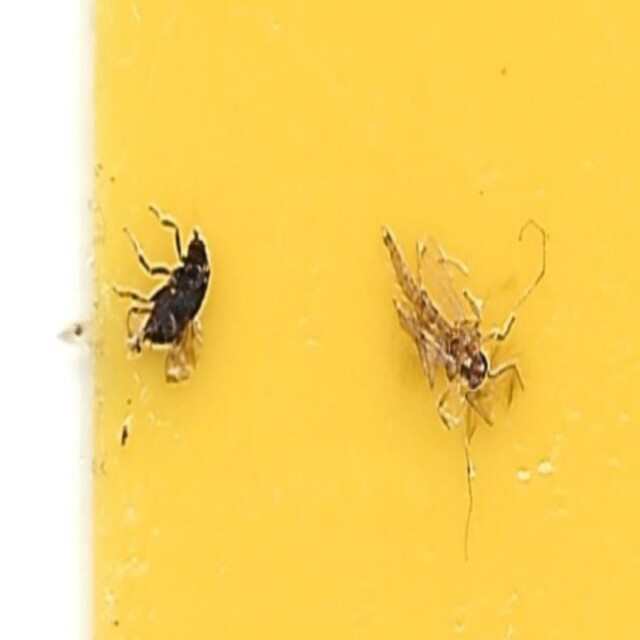Brachycera: (117, 204, 209, 387)
Nematocera: (375, 218, 523, 436)
